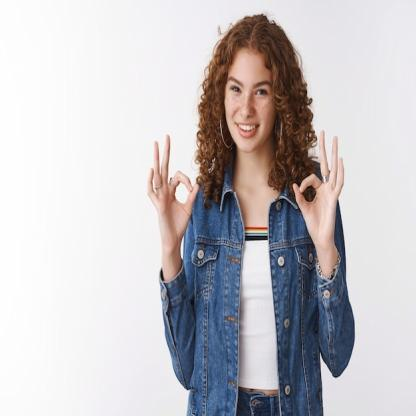ok: (289, 125, 346, 256), (146, 131, 200, 254)
